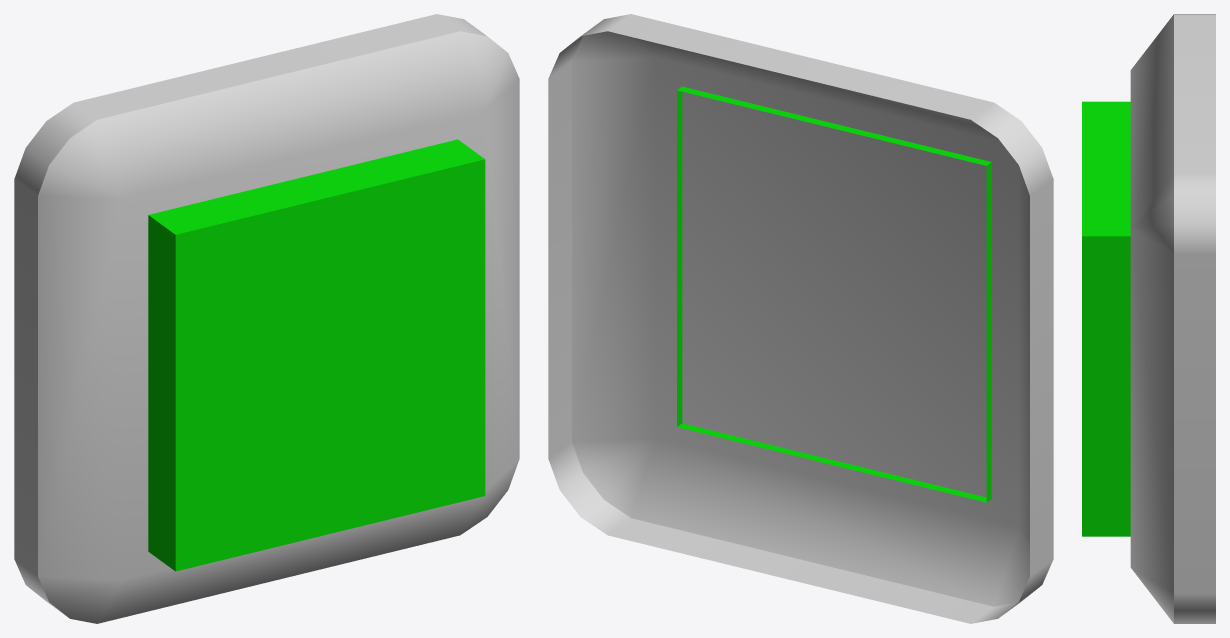
File: Connector.fbx
3 renders of one model, left to right at view 1: azimuth 30°, elevation 25°; view 2: azimuth 150°, elevation 25°; view 3: azimuth 270°, elevation 25°, orthographic. The views are drawn at different scales.
Parts seen in each view (by area): view 1: Connector; view 2: Connector; view 3: Connector.
Part boxes in pixels (x1,y1,x2,y2): Connector: (14,14,519,623); Connector: (548,14,1053,623); Connector: (1082,14,1215,623).
Bounding box in the file's own units: 4.62 × 4.62 × 1.25.
